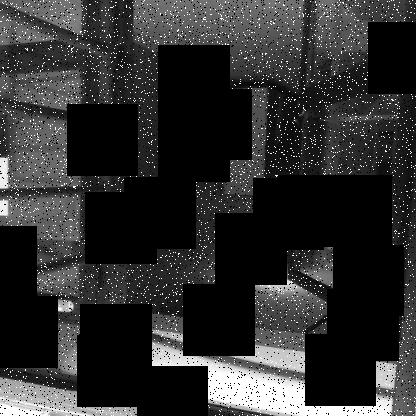Porte: (102, 1, 416, 362)
